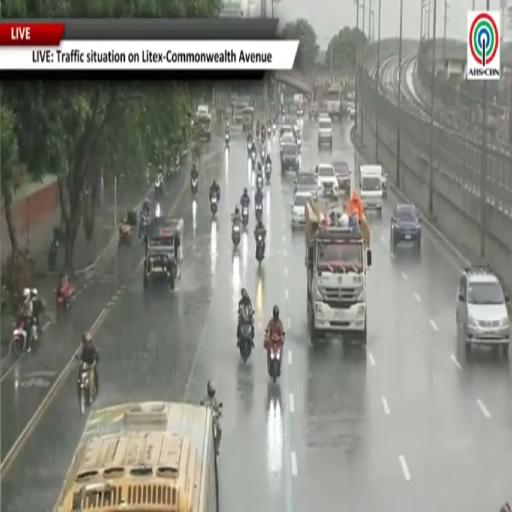bus: (54, 403, 218, 511), (327, 86, 342, 119)
car: (456, 266, 510, 356), (390, 203, 421, 253), (291, 190, 312, 228), (316, 164, 338, 198), (333, 160, 351, 196), (294, 172, 317, 196), (281, 142, 299, 172), (318, 117, 332, 149), (280, 133, 295, 152), (280, 125, 293, 143), (309, 103, 318, 119), (382, 172, 387, 198), (347, 105, 355, 119)
jeepney: (144, 217, 183, 290), (195, 113, 211, 141), (233, 101, 248, 124), (242, 106, 254, 132)
motorcycle: (200, 398, 223, 455), (77, 361, 96, 414), (239, 308, 253, 362), (11, 318, 29, 356), (48, 227, 62, 271), (268, 338, 282, 382), (56, 281, 74, 309), (231, 221, 241, 248), (139, 215, 148, 242), (256, 234, 264, 263), (154, 175, 163, 199), (210, 196, 217, 218), (255, 202, 263, 221), (242, 205, 248, 228), (191, 178, 198, 196), (256, 172, 263, 189), (265, 164, 271, 183), (251, 149, 256, 171), (248, 141, 253, 156), (261, 147, 266, 162), (272, 122, 277, 136), (297, 136, 302, 150), (225, 133, 229, 148), (267, 126, 271, 138)
tricycle: (119, 211, 137, 247)
truck: (305, 202, 371, 345), (360, 165, 384, 217), (327, 85, 342, 120), (196, 105, 211, 140)
